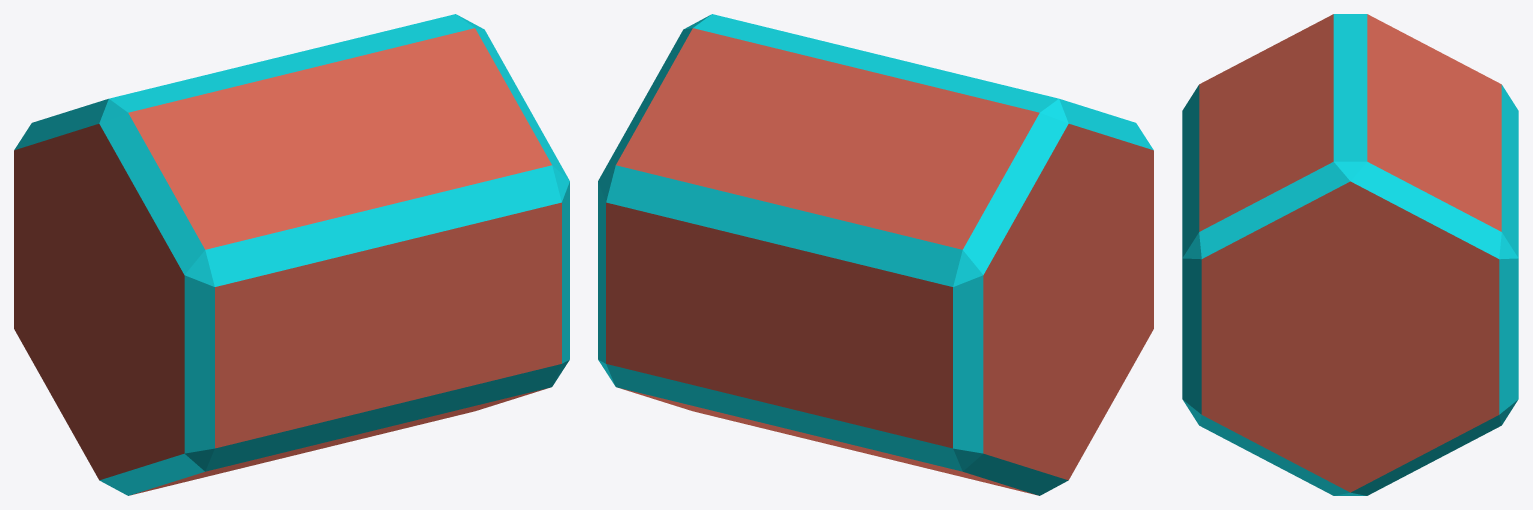
Rendered from BiselledPrism.fbx.
The picture shows the model from 3 angles, left to right: view 1: azimuth 30°, elevation 25°; view 2: azimuth 150°, elevation 25°; view 3: azimuth 270°, elevation 25°; orthographic projection. The views are drawn at different scales.
Visible parts, largest first — view 1: Cilindro; view 2: Cilindro; view 3: Cilindro.
Boxes of the visible parts, left/top/right/bottom form: Cilindro: left=14, top=14, right=569, bottom=495; Cilindro: left=598, top=14, right=1153, bottom=495; Cilindro: left=1182, top=14, right=1518, bottom=495.
Bounding box in the file's own units: 200 × 190 × 173.
